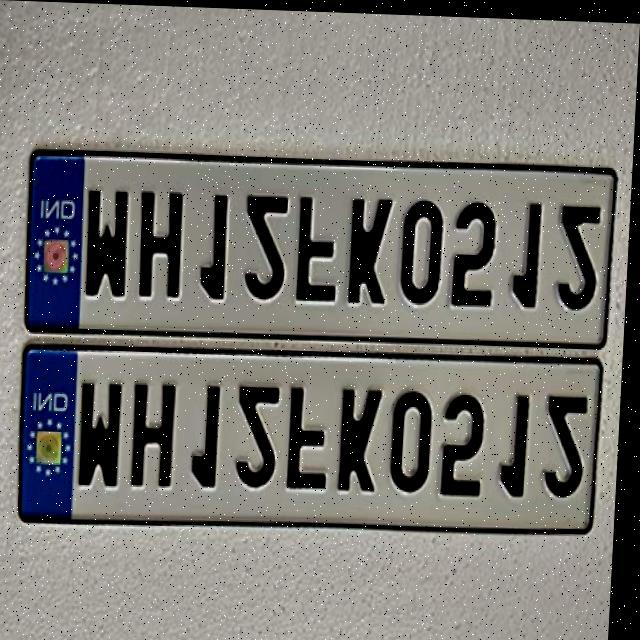plate: (26, 147, 618, 347), (25, 340, 607, 540)
